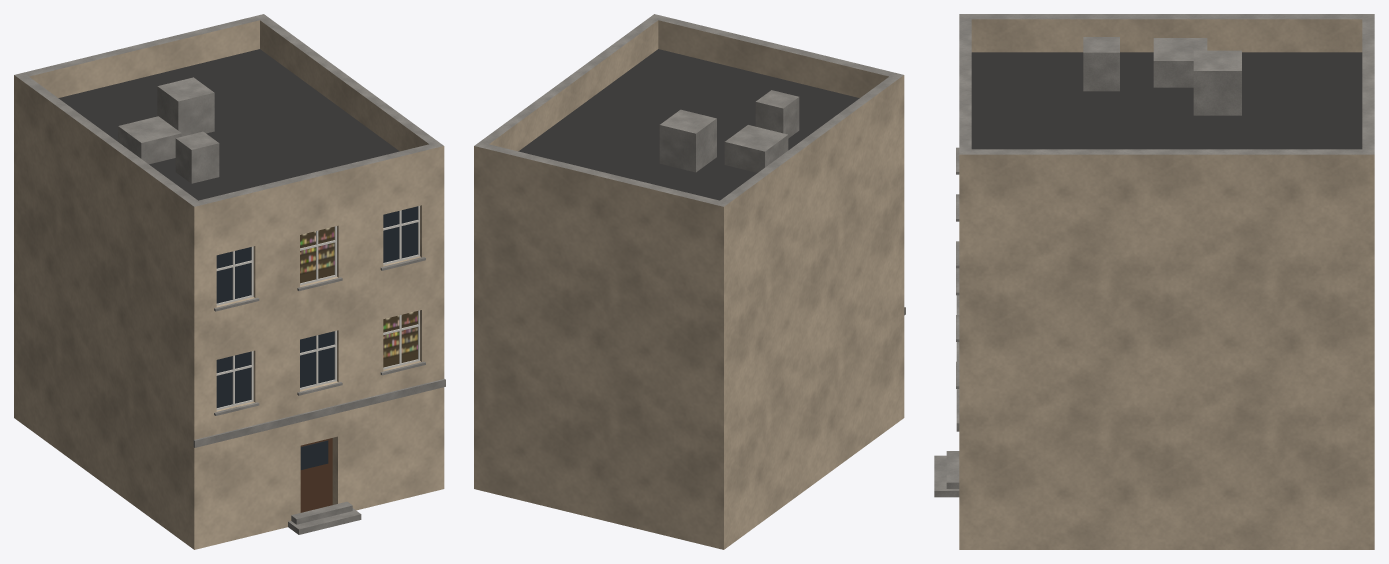
Rendered from Bld_Plain.fbx.
The picture shows the model from 3 angles, left to right: view 1: azimuth 30°, elevation 25°; view 2: azimuth 150°, elevation 25°; view 3: azimuth 270°, elevation 25°; orthographic projection. The views are drawn at different scales.
Visible parts, largest first — view 1: Bld_Plain; view 2: Bld_Plain; view 3: Bld_Plain.
Part boxes in pixels (box(x1,y1,x2,y2)): Bld_Plain: box(14, 14, 445, 549); Bld_Plain: box(474, 14, 905, 549); Bld_Plain: box(934, 14, 1374, 549).
Bounding box in the file's own units: 8.04 × 10.81 × 10.6.
